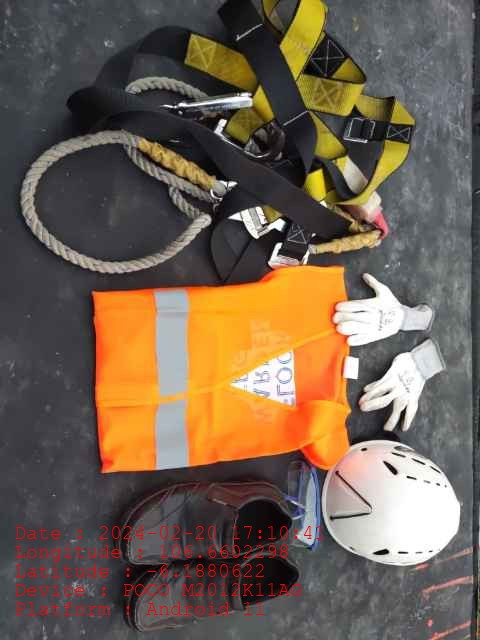HELM: (321, 440, 462, 567)
ROMPI: (87, 276, 333, 467)
SARUNG_TANGAN: (358, 340, 445, 431), (331, 275, 432, 348)
